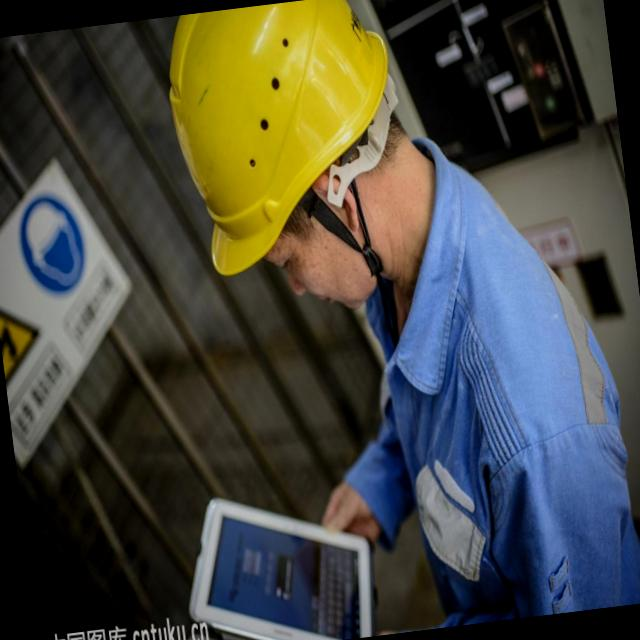helmet: (156, 0, 414, 264)
no-goggles: (258, 204, 332, 291)
no-vest: (380, 261, 640, 630)
